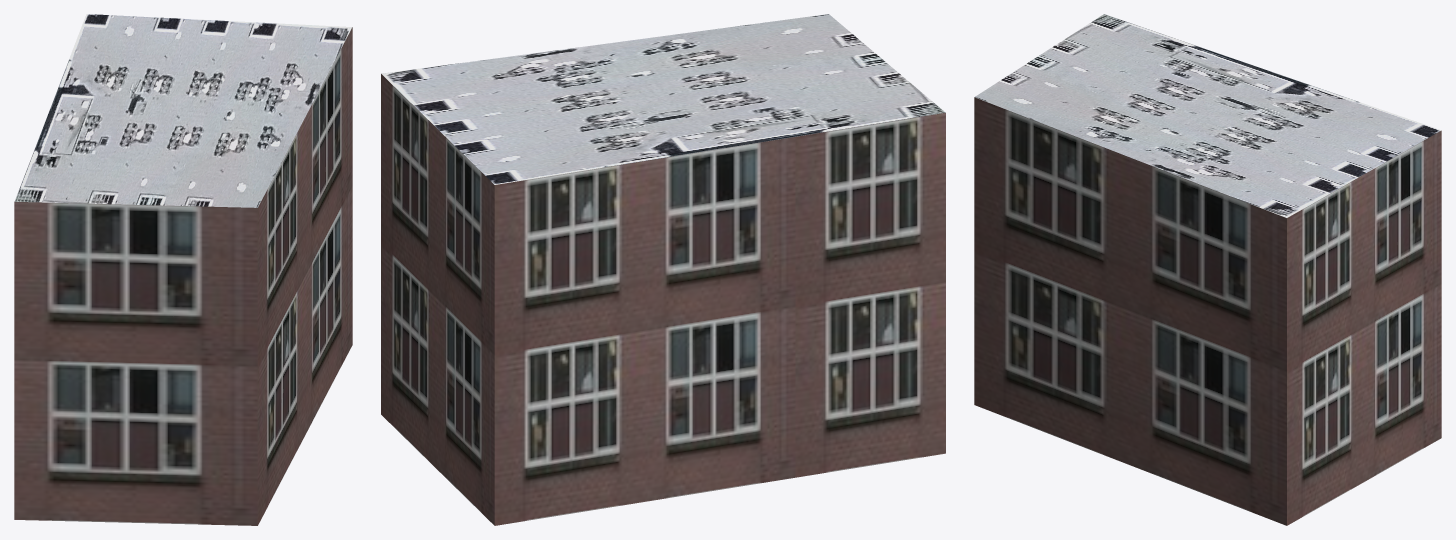
Rendered from ResTex__262.fbx.
The picture shows the model from 3 angles, left to right: view 1: azimuth 30°, elevation 25°; view 2: azimuth 150°, elevation 25°; view 3: azimuth 270°, elevation 25°; orthographic projection. The views are drawn at different scales.
Visible parts, largest first — view 1: CityEngineMaterial_12_m, CityEngineMaterial_4_m; view 2: CityEngineMaterial_12_m, CityEngineMaterial_4_m; view 3: CityEngineMaterial_12_m, CityEngineMaterial_4_m.
Boxes of the visible parts, x1,y1,x2,y2 form: CityEngineMaterial_12_m: [14, 27, 352, 525]; CityEngineMaterial_4_m: [14, 14, 352, 207]; CityEngineMaterial_12_m: [381, 74, 945, 525]; CityEngineMaterial_4_m: [381, 14, 945, 184]; CityEngineMaterial_12_m: [974, 97, 1441, 525]; CityEngineMaterial_4_m: [974, 14, 1441, 217].
Bounding box in the file's own units: 8.54 × 6 × 8.26.
Materials: 2 (2 with a texture image).
